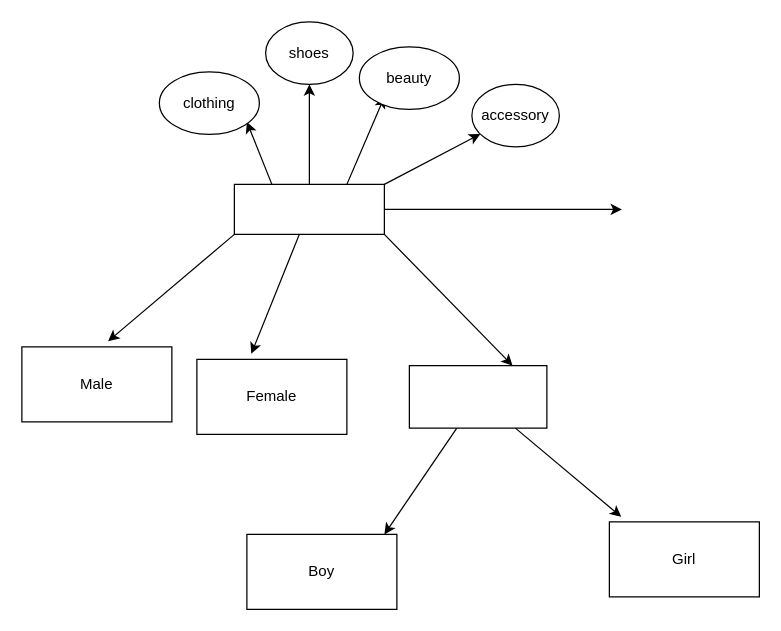
This 781x631 diagram has some shape labels left out. Each missing label, with the box of its shape:
BaseModel: (233, 183, 384, 234)
Kid: (408, 364, 547, 428)
